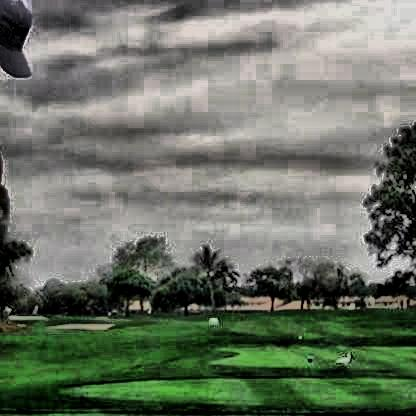golfball: (206, 315, 215, 324)
